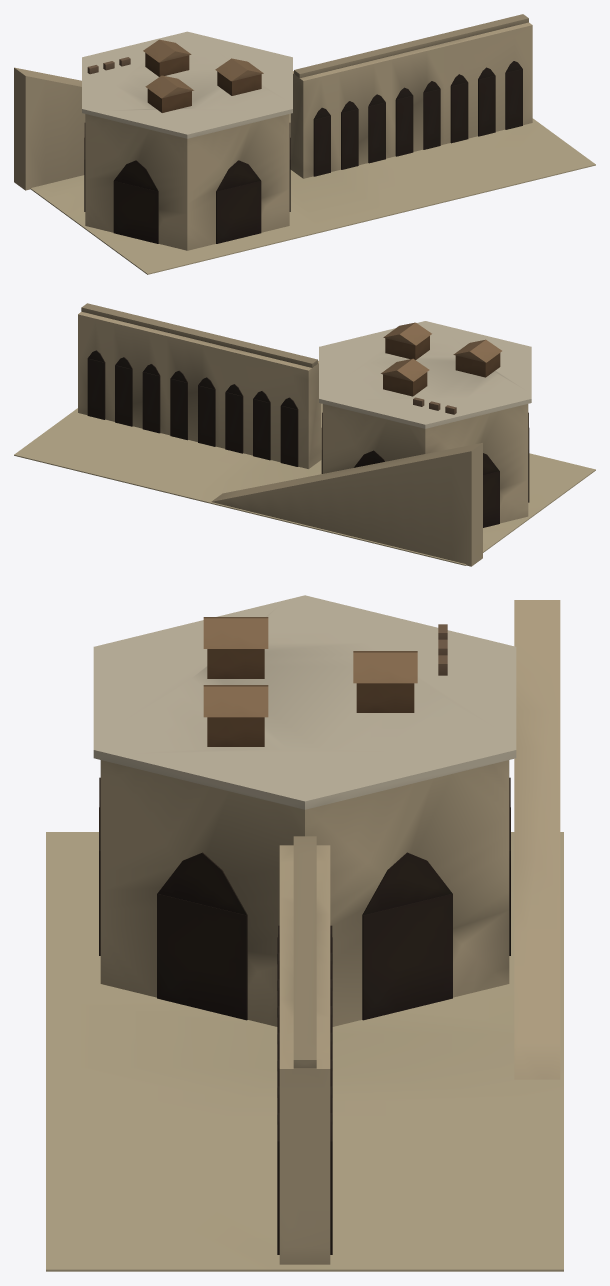
Rendered from aqueduct-intake.glb.
The picture shows the model from 3 angles, top to bottom: view 1: azimuth 30°, elevation 25°; view 2: azimuth 150°, elevation 25°; view 3: azimuth 270°, elevation 25°; orthographic projection. The views are drawn at different scales.
Visible parts, largest first — view 1: p1_tower, p2_aqueduct, p0_ground, p3_water-wheels; view 2: p2_aqueduct, p1_tower, p0_ground, p3_water-wheels; view 3: p1_tower, p0_ground, p2_aqueduct, p3_water-wheels.
Boxes of the visible parts, left/top/right/bottom form: p1_tower: left=82, top=31, right=292, bottom=250; p2_aqueduct: left=14, top=14, right=532, bottom=190; p0_ground: left=30, top=113, right=595, bottom=274; p3_water-wheels: left=87, top=39, right=263, bottom=112; p2_aqueduct: left=78, top=303, right=482, bottom=566; p1_tower: left=319, top=321, right=531, bottom=527; p0_ground: left=14, top=403, right=595, bottom=565; p3_water-wheels: left=381, top=322, right=501, bottom=414; p1_tower: left=93, top=595, right=516, bottom=1026; p0_ground: left=46, top=832, right=563, bottom=1271; p2_aqueduct: left=277, top=600, right=560, bottom=1264; p3_water-wheels: left=203, top=617, right=447, bottom=746.
Bounding box in the file's own units: 91 × 27.24 × 45.
